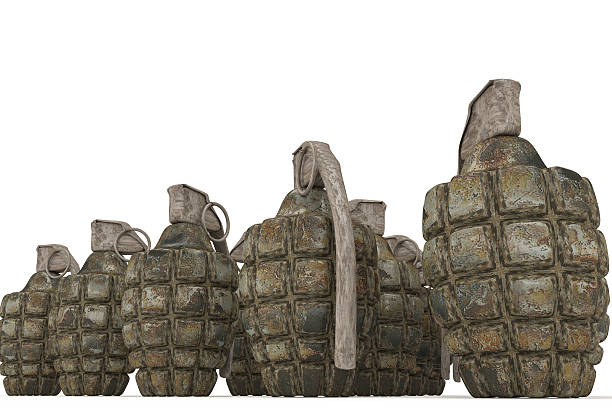e1: (420, 79, 612, 395), (237, 140, 381, 397), (126, 186, 238, 397), (1, 241, 74, 395)
